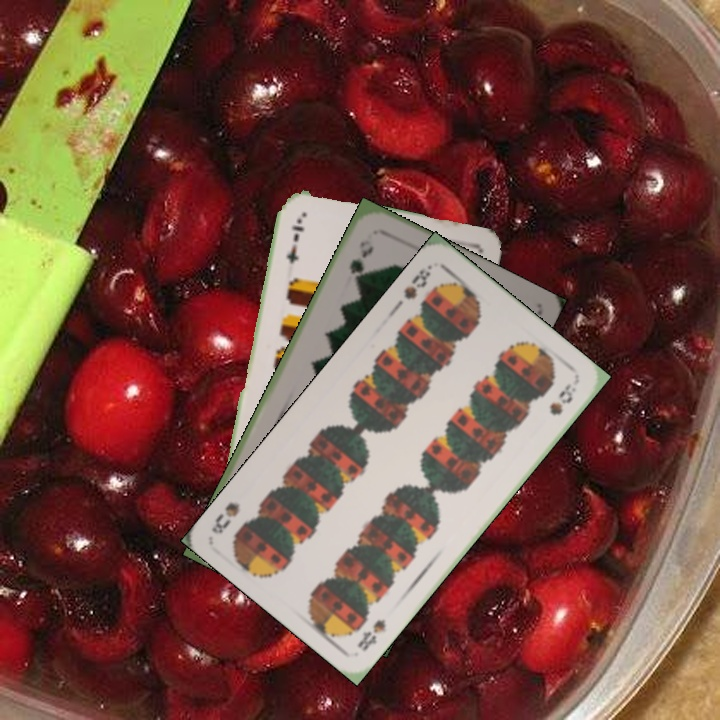E7: (282, 214, 307, 267)
G9: (345, 235, 375, 284)
S8: (399, 260, 435, 303), (353, 615, 389, 654)
